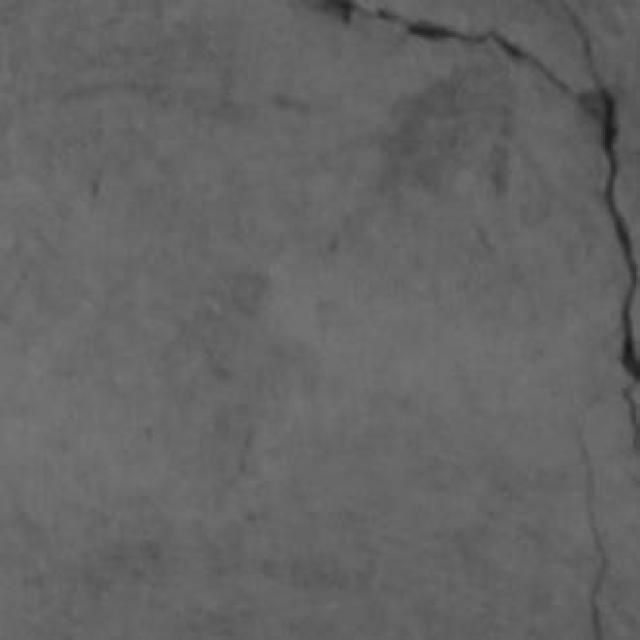crack: (322, 0, 639, 453), (340, 0, 639, 451), (563, 2, 639, 451), (578, 429, 608, 639)
